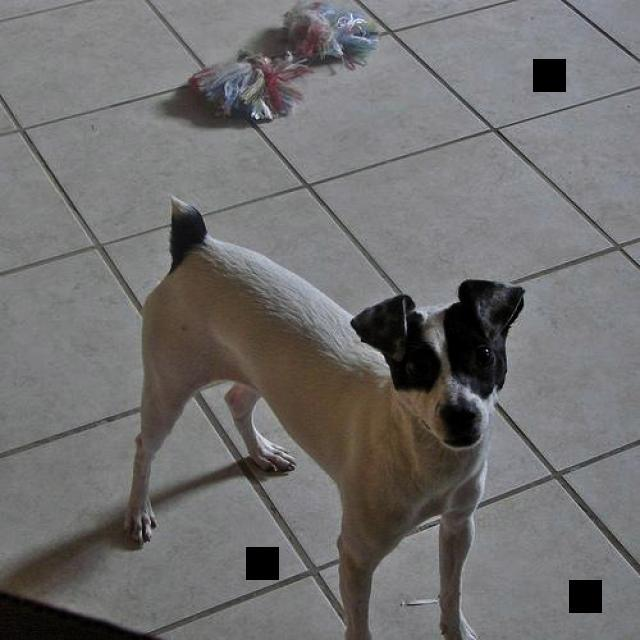adult_dog: (117, 195, 532, 640)
